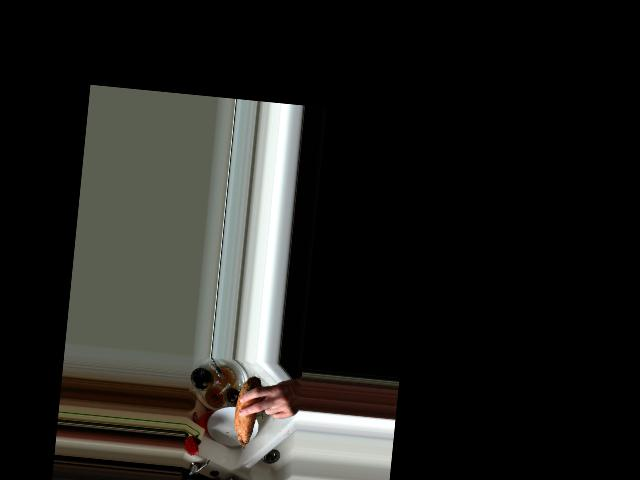sweet_potato: (232, 372, 266, 453)
